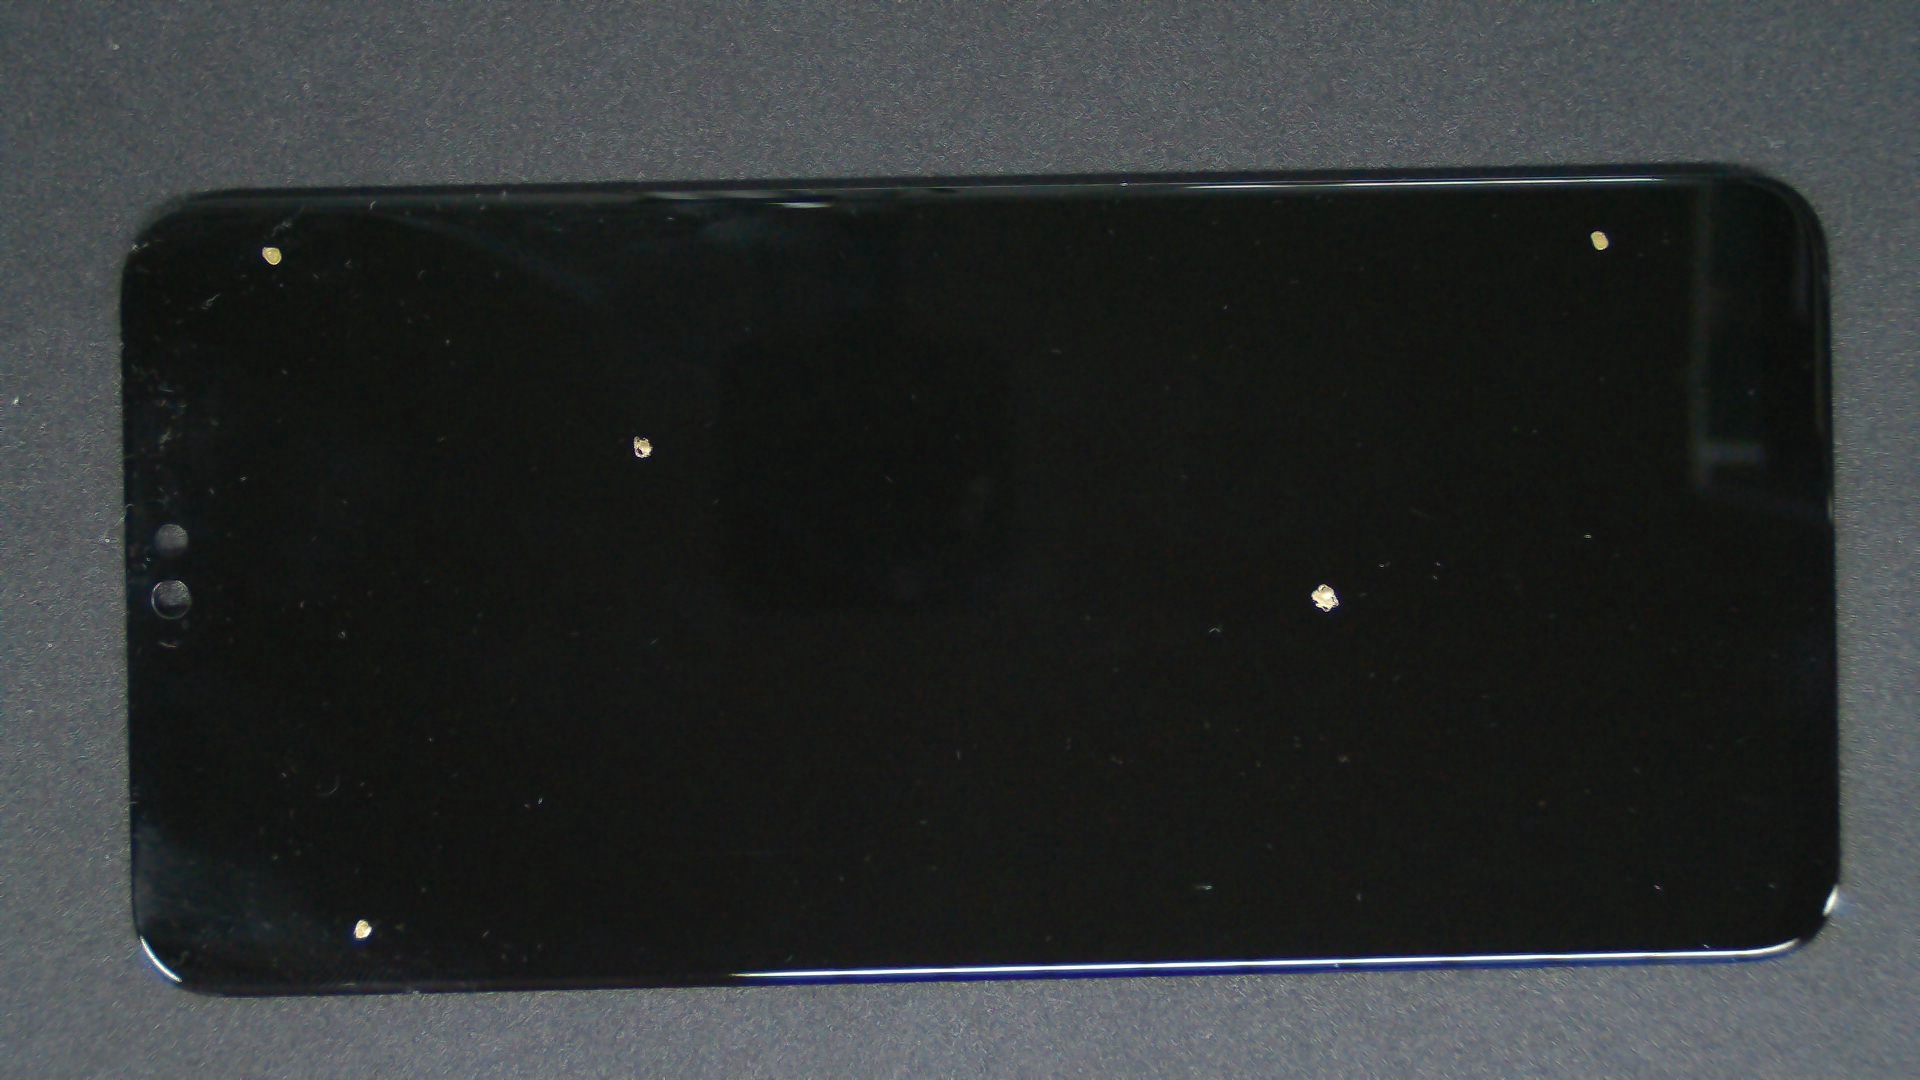oil: (662, 290, 1920, 876), (318, 218, 952, 653), (799, 115, 1920, 345), (182, 459, 545, 1080), (132, 123, 396, 369)
